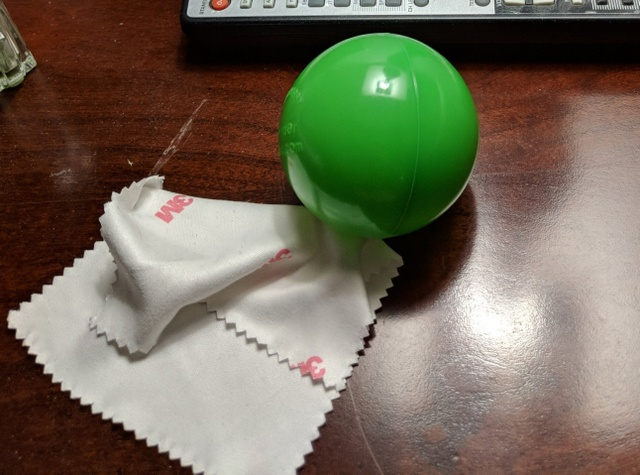ball: (278, 33, 478, 240)
